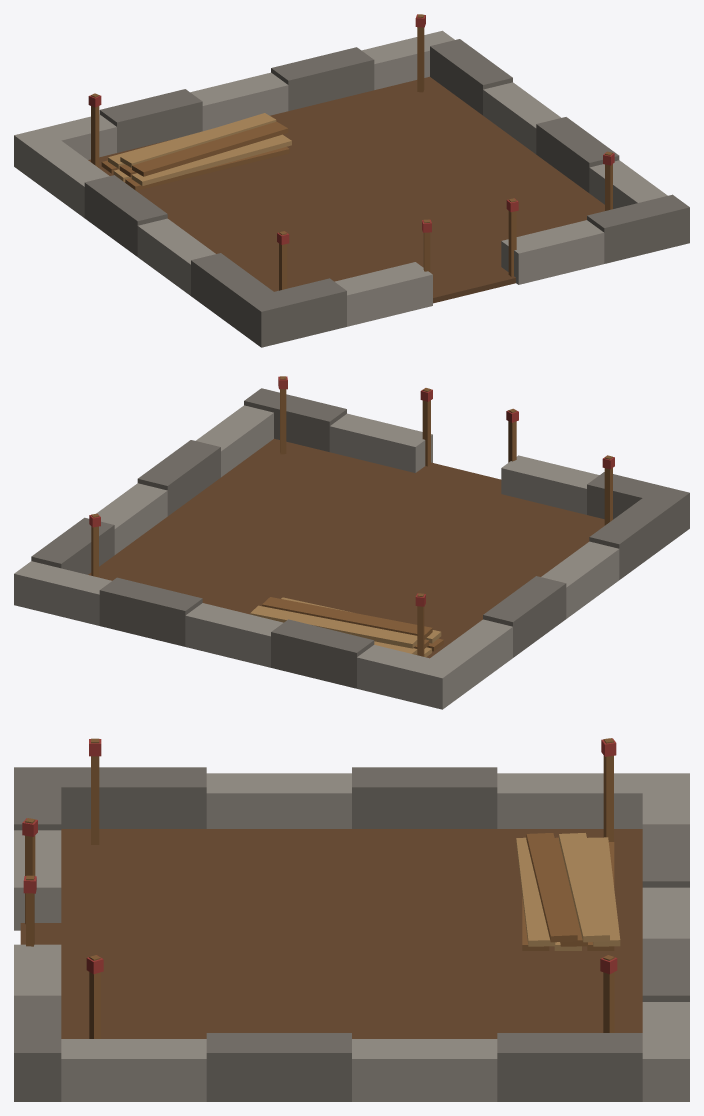
File: site_5x5_1.glb
The picture shows the model from 3 angles, top to bottom: view 1: azimuth 30°, elevation 25°; view 2: azimuth 150°, elevation 25°; view 3: azimuth 270°, elevation 25°; orthographic projection. The views are drawn at different scales.
Parts seen in each view (by area): view 1: site_5x5_1; view 2: site_5x5_1; view 3: site_5x5_1.
Part boxes in pixels (box(x1,y1,x2,y2)): site_5x5_1: box(14, 14, 689, 347); site_5x5_1: box(14, 376, 689, 709); site_5x5_1: box(14, 738, 689, 1101).
Bounding box in the file's own units: 5 × 0.9 × 5.
